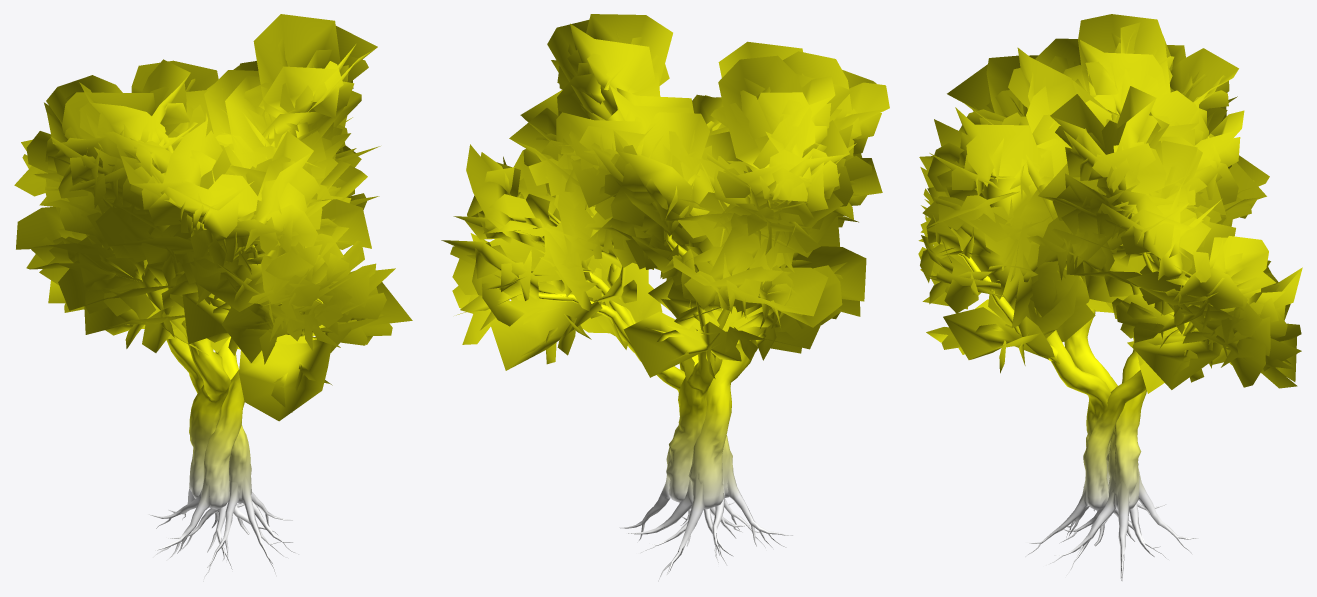
Rendered from Olivetree5.fbx.
3 renders of one model, left to right at view 1: azimuth 30°, elevation 25°; view 2: azimuth 150°, elevation 25°; view 3: azimuth 270°, elevation 25°, orthographic. The views are drawn at different scales.
Visible parts, largest first — view 1: Olivetree5_LOD0; view 2: Olivetree5_LOD0; view 3: Olivetree5_LOD0.
Part boxes in pixels (box(x1,y1,x2,y2)): Olivetree5_LOD0: box(14, 14, 412, 581); Olivetree5_LOD0: box(441, 14, 889, 581); Olivetree5_LOD0: box(918, 14, 1302, 581).
Size of what is drawn, in the model's own units: 1118 by 1621 by 1127.
